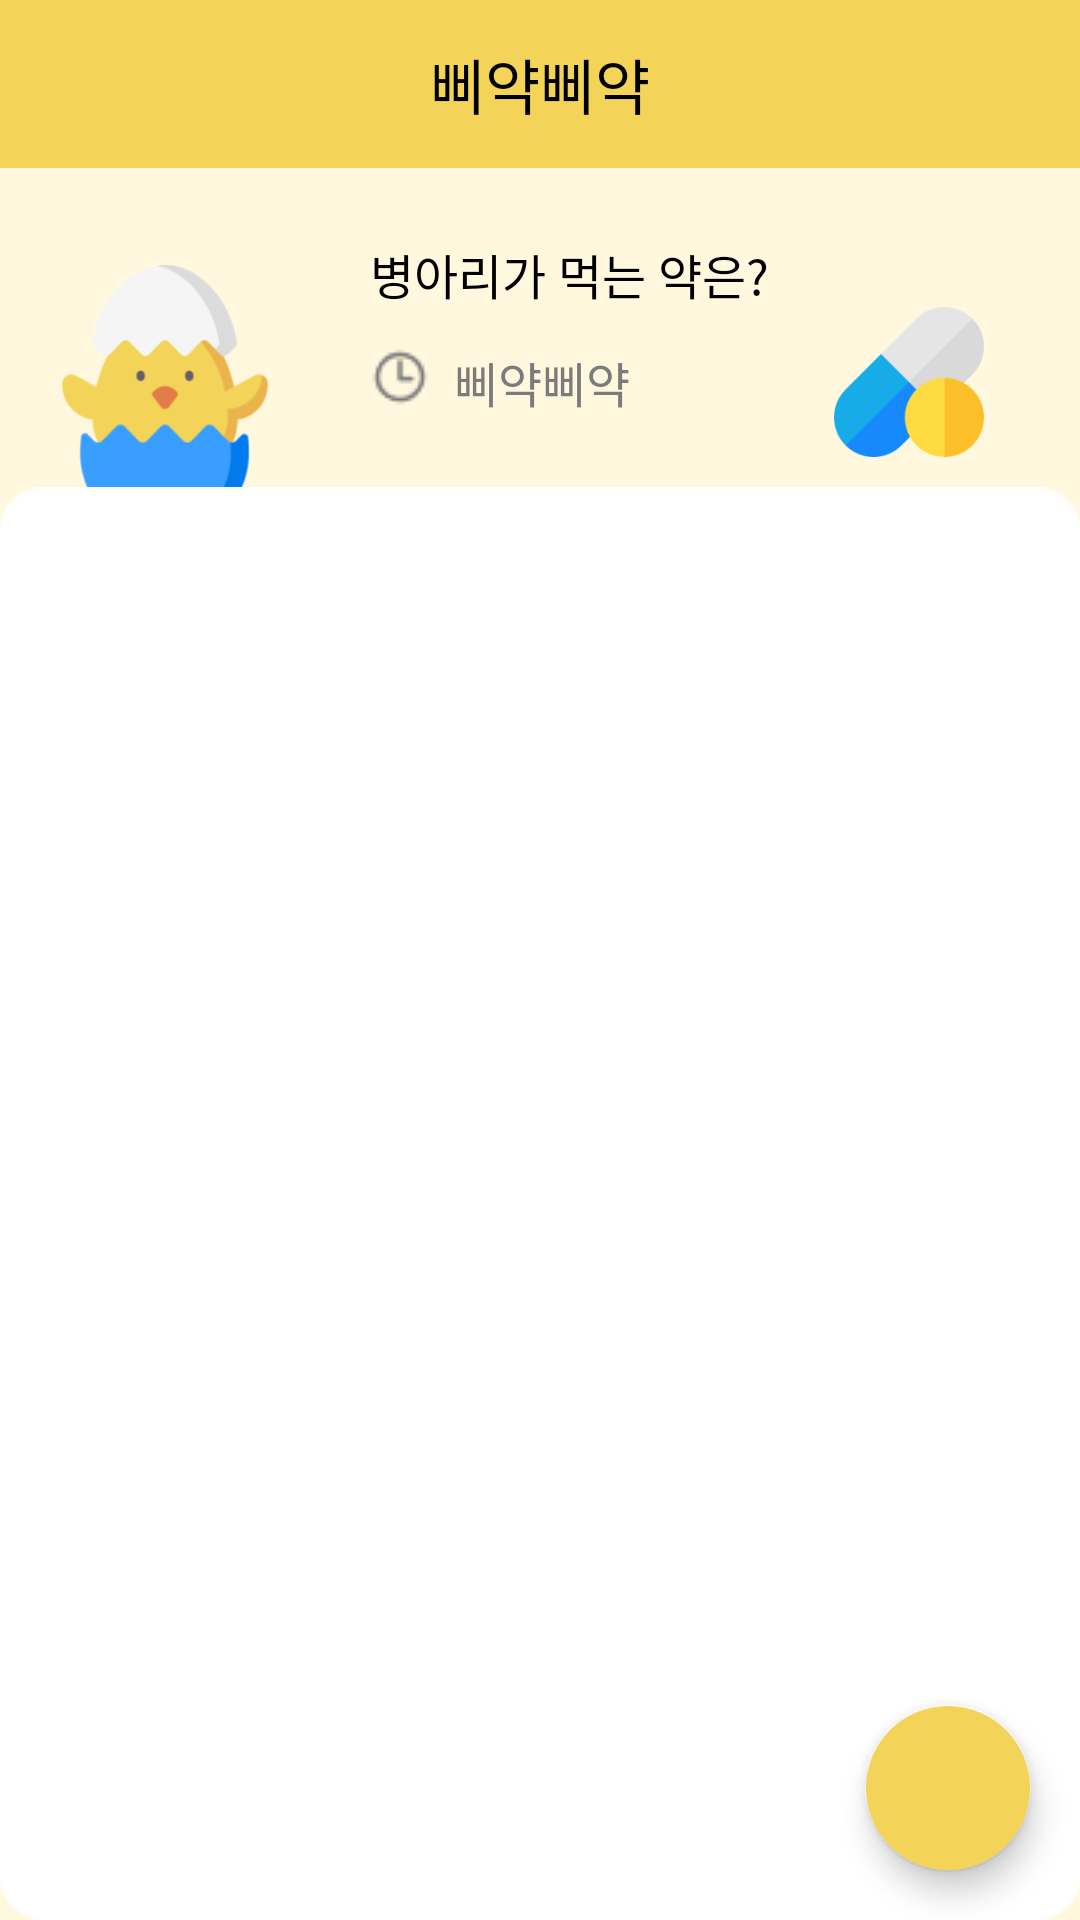

Screen size 1080 x 1920. Icon name, then its box in pixels as (x1, y1, x2, y2):
alaram: (374, 351, 426, 403)
chick: (62, 265, 269, 487)
drug: (834, 307, 984, 457)
